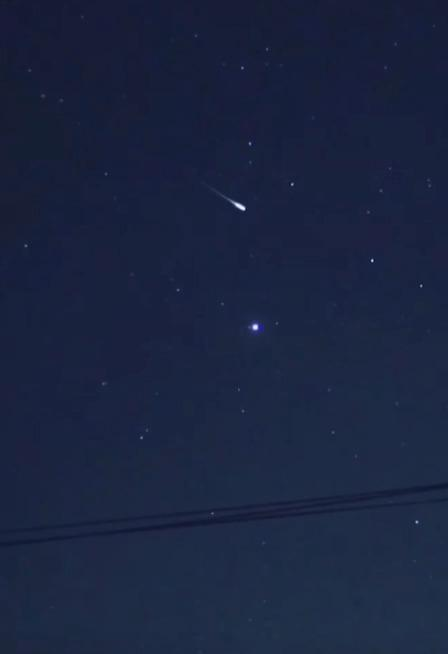meteorite: (187, 173, 259, 223)
